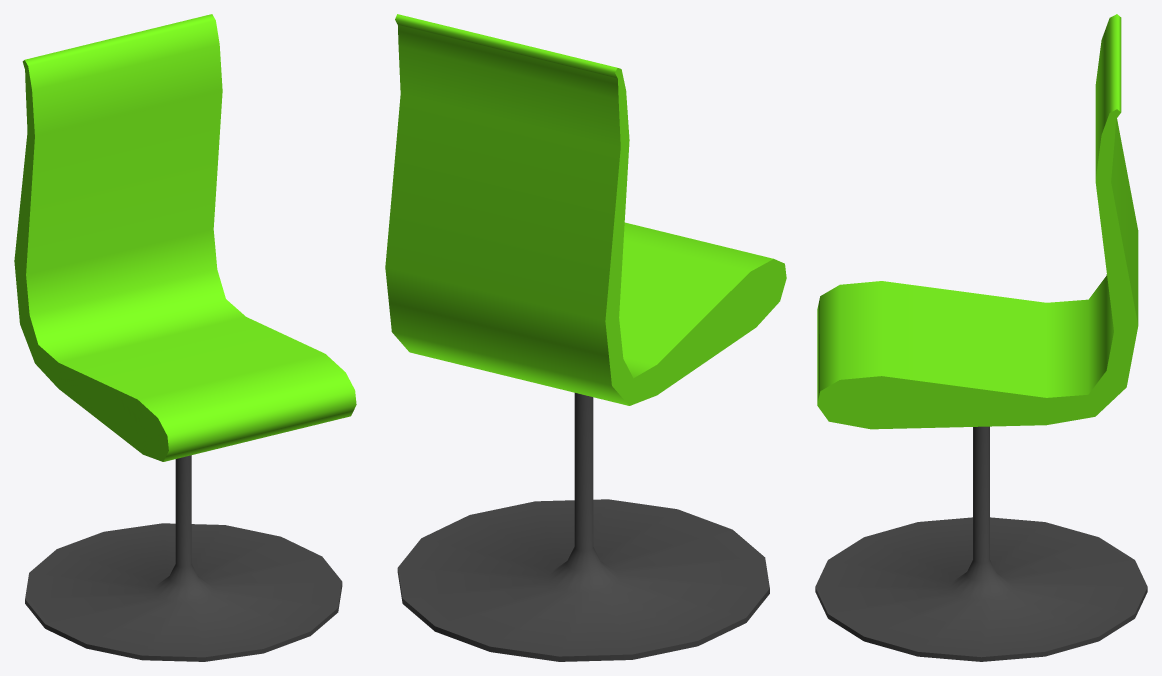
The model's file is Chaise_Verte.FBX.
The picture shows the model from 3 angles, left to right: view 1: azimuth 30°, elevation 25°; view 2: azimuth 150°, elevation 25°; view 3: azimuth 270°, elevation 25°; orthographic projection. The views are drawn at different scales.
Visible parts, largest first — view 1: Cylinder001; view 2: Cylinder001; view 3: Cylinder001.
Boxes of the visible parts, x1,y1,x2,y2 form: Cylinder001: (14,14,356,661); Cylinder001: (385,14,786,661); Cylinder001: (815,14,1147,661).
Size of the model in its own units: 65.15 by 115 by 65.15.
